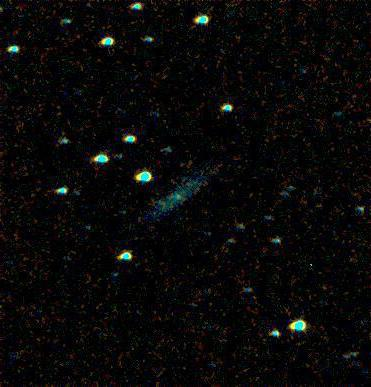star: (141, 198, 171, 228)
